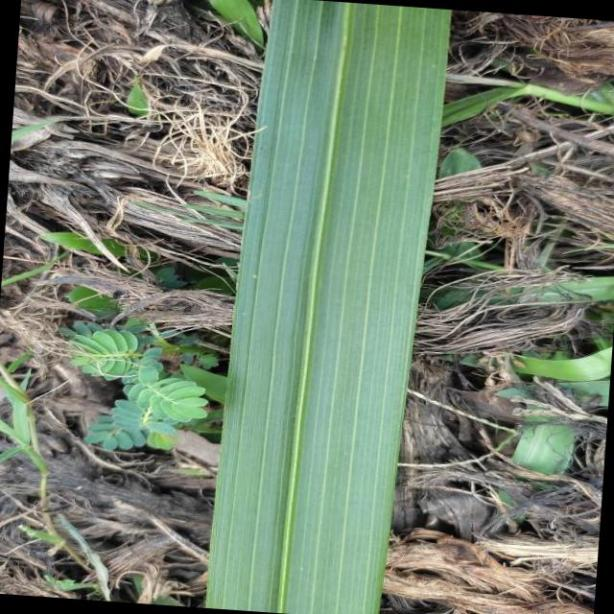Healthy: (207, 0, 452, 614)
